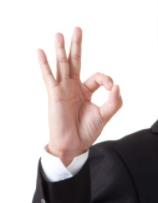left: (36, 26, 125, 151)
